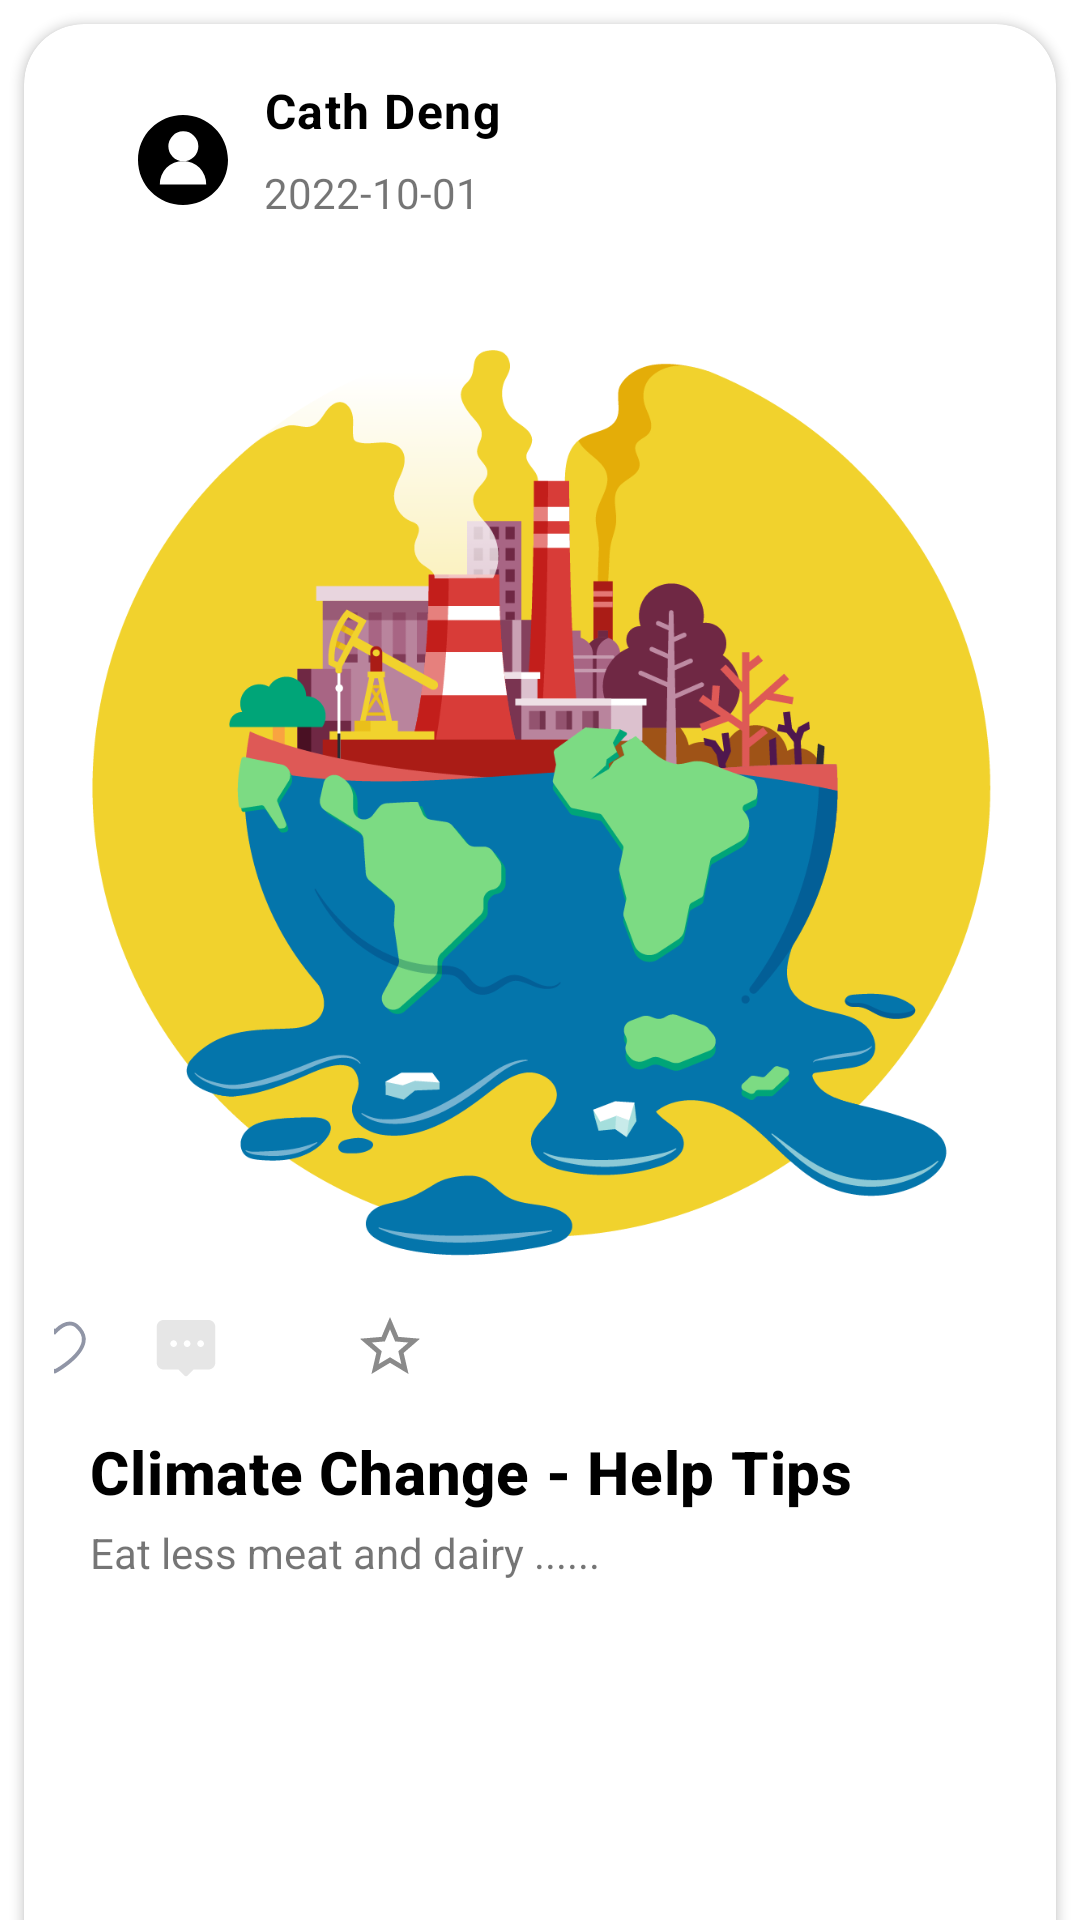

Locate icon controls on the screen. Image size 1080×1920, boxes as {"x1": x1, "y1": y1, "x2": x2, "y2": y2}.
comment: {"x1": 157, "y1": 1320, "x2": 215, "y2": 1376}
star border: {"x1": 361, "y1": 1318, "x2": 419, "y2": 1374}
user: {"x1": 138, "y1": 115, "x2": 228, "y2": 205}
